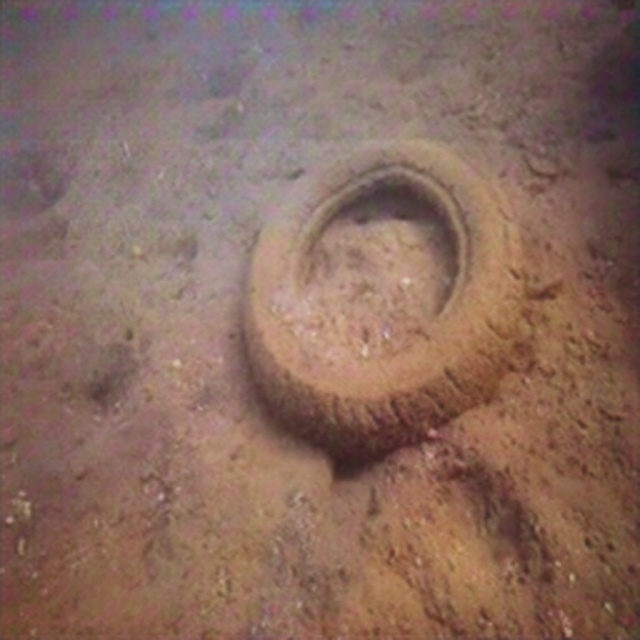mine: (243, 132, 526, 467)
